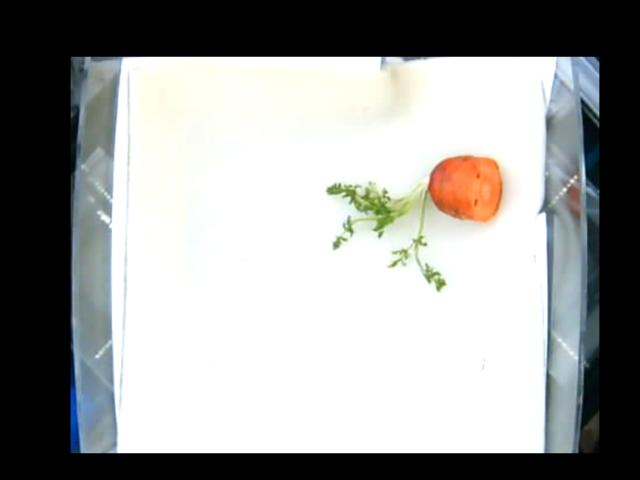Carrot: (322, 155, 501, 293)
